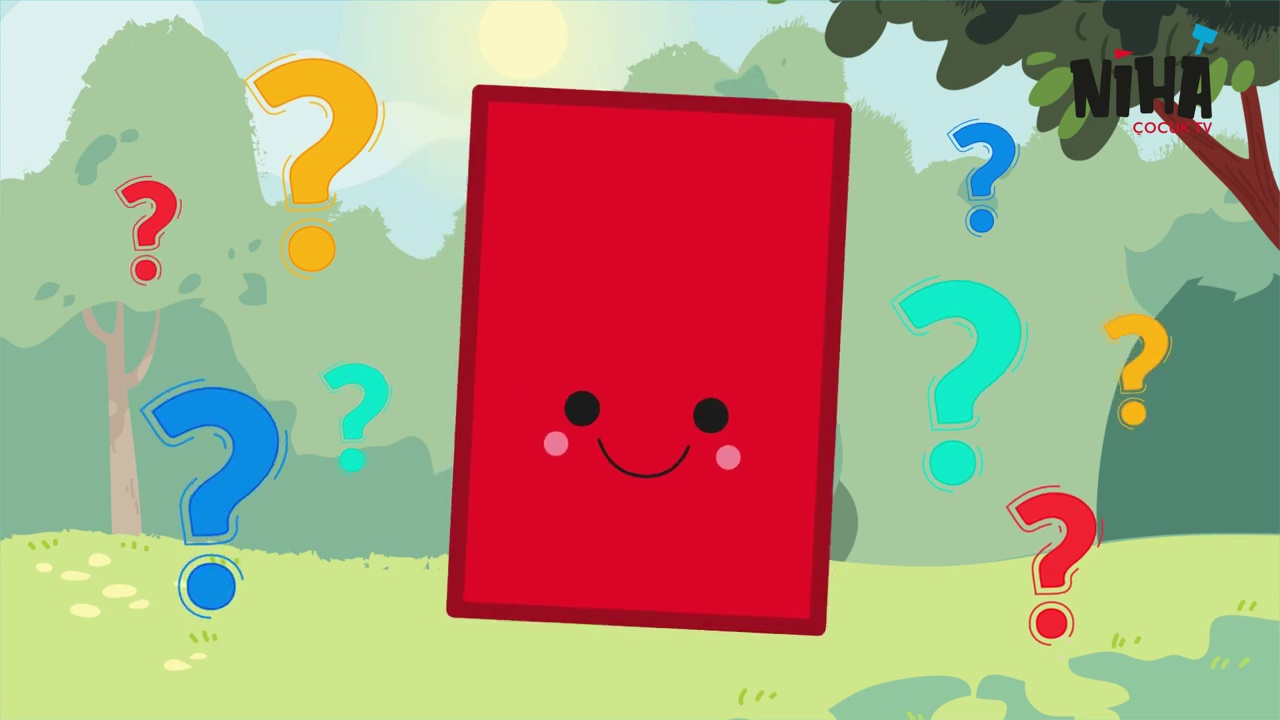dikdortgen: (434, 77, 879, 640)
